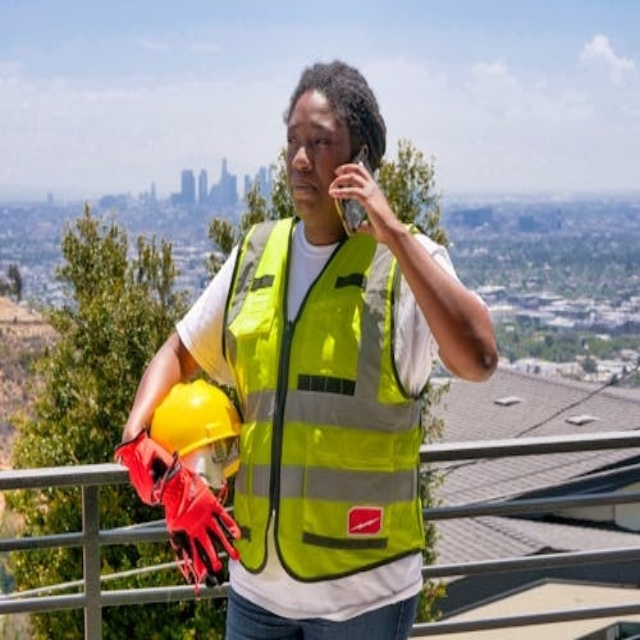Guantes: (111, 420, 172, 503)
Sin_gafas: (285, 119, 333, 150)
Sin_guantes: (328, 159, 404, 239)
Sin_mascara: (285, 174, 317, 207)
